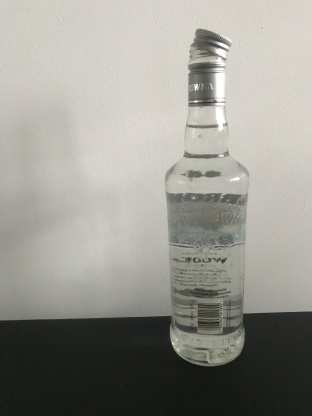nakretka: (186, 25, 233, 105)
